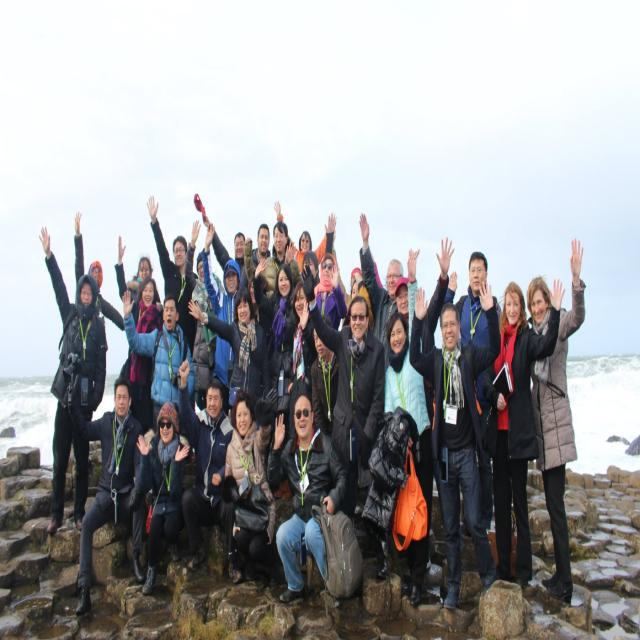body: (409, 280, 505, 614), (481, 280, 567, 589), (524, 236, 587, 604), (36, 223, 108, 537), (393, 235, 455, 550), (299, 261, 386, 485), (70, 375, 147, 617), (383, 249, 434, 609), (266, 393, 351, 608), (444, 251, 501, 535), (178, 358, 242, 584), (136, 399, 192, 595), (121, 287, 196, 433), (220, 389, 276, 583), (188, 287, 272, 411), (252, 256, 301, 436), (146, 193, 199, 359), (114, 235, 157, 434), (184, 218, 227, 412), (201, 221, 242, 419), (359, 212, 404, 376), (70, 212, 126, 334), (286, 280, 326, 437), (273, 199, 337, 276), (243, 220, 304, 300), (310, 316, 340, 440), (202, 210, 246, 283), (313, 253, 348, 329), (239, 223, 272, 297), (332, 226, 359, 308), (127, 255, 161, 302), (301, 250, 321, 289)
